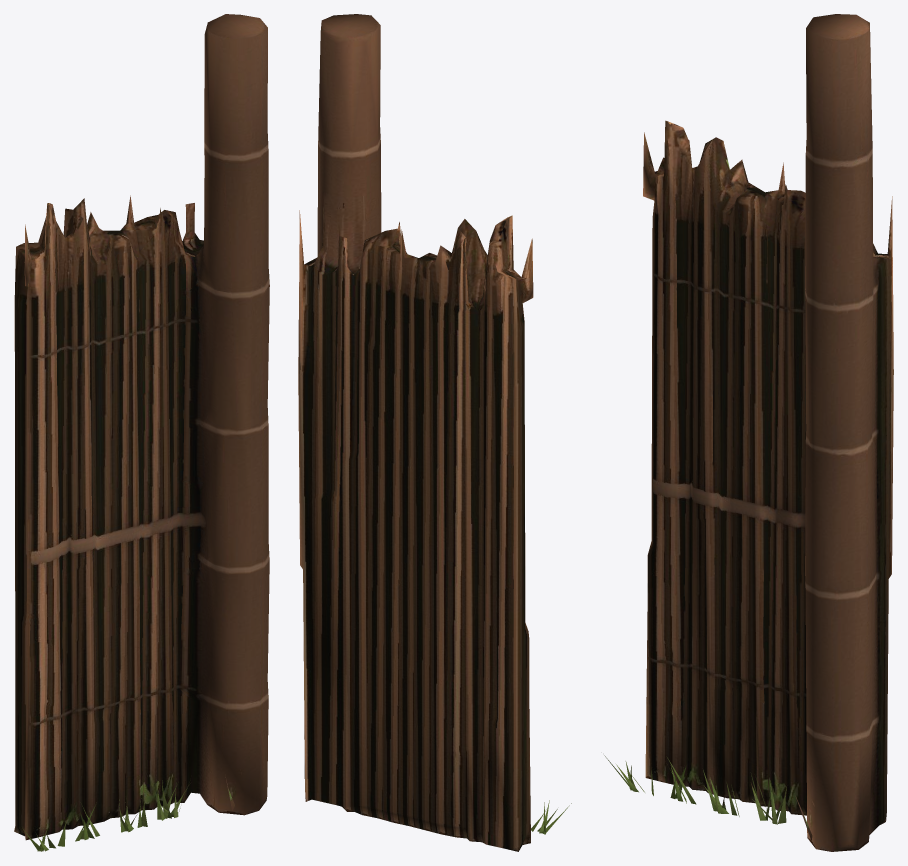
Rendered from fence_reed_end_e_tall.glb.
3 renders of one model, left to right at view 1: azimuth 30°, elevation 25°; view 2: azimuth 150°, elevation 25°; view 3: azimuth 330°, elevation 25°, orthographic. The views are drawn at different scales.
Parts seen in each view (by area): view 1: fence_reed_end_e_tall_lod0; view 2: fence_reed_end_e_tall_lod0; view 3: fence_reed_end_e_tall_lod0.
Boxes of the visible parts, <box> form: fence_reed_end_e_tall_lod0: <box>14,14,269,851</box>; fence_reed_end_e_tall_lod0: <box>298,14,571,851</box>; fence_reed_end_e_tall_lod0: <box>604,14,893,851</box>.
Size of the model in its own units: 0.6292 by 1.87 by 0.1961.
1 material, 1 textured.
